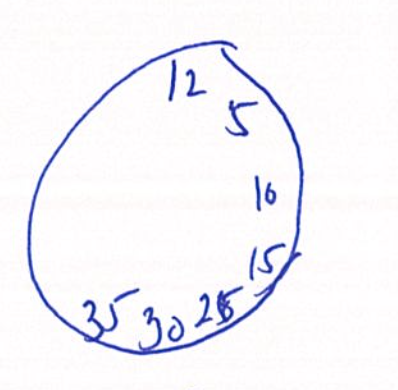10: (249, 175, 278, 212)
12: (166, 58, 207, 104)
5: (224, 95, 260, 138)
contour: (20, 37, 307, 357)
